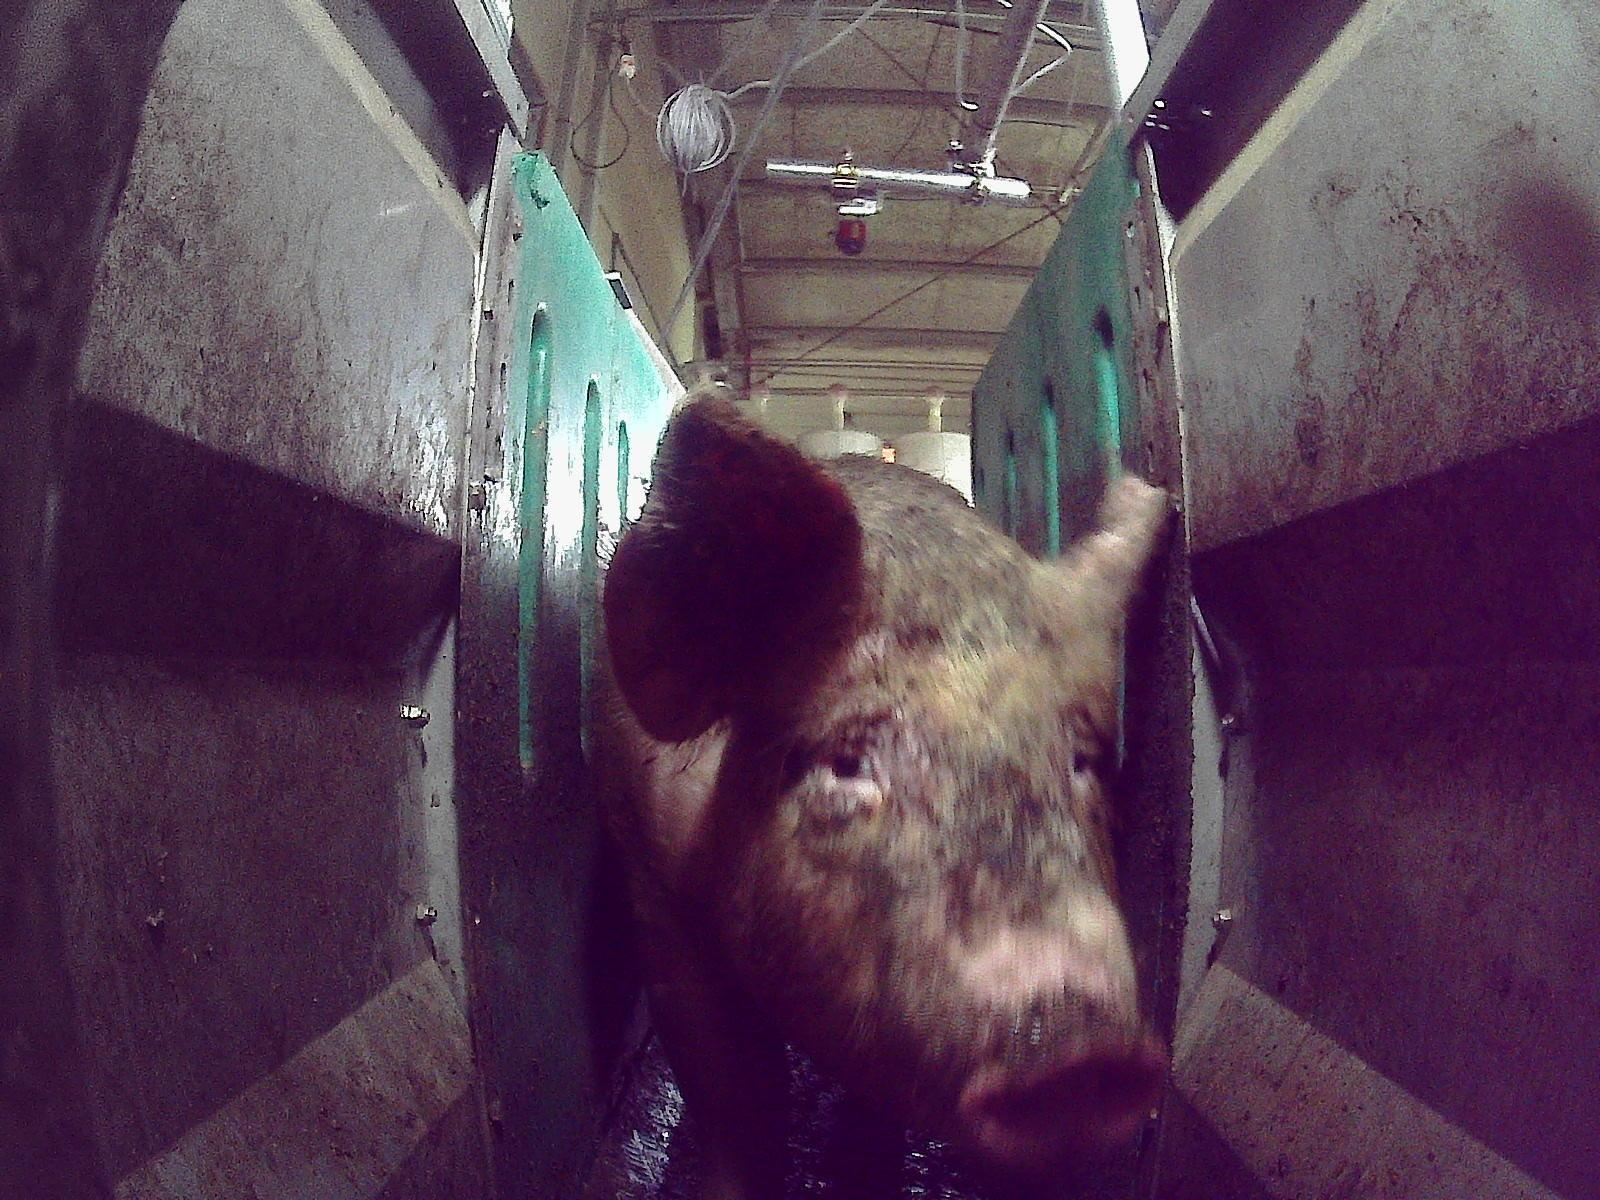Face: (726, 575, 1169, 1166)
